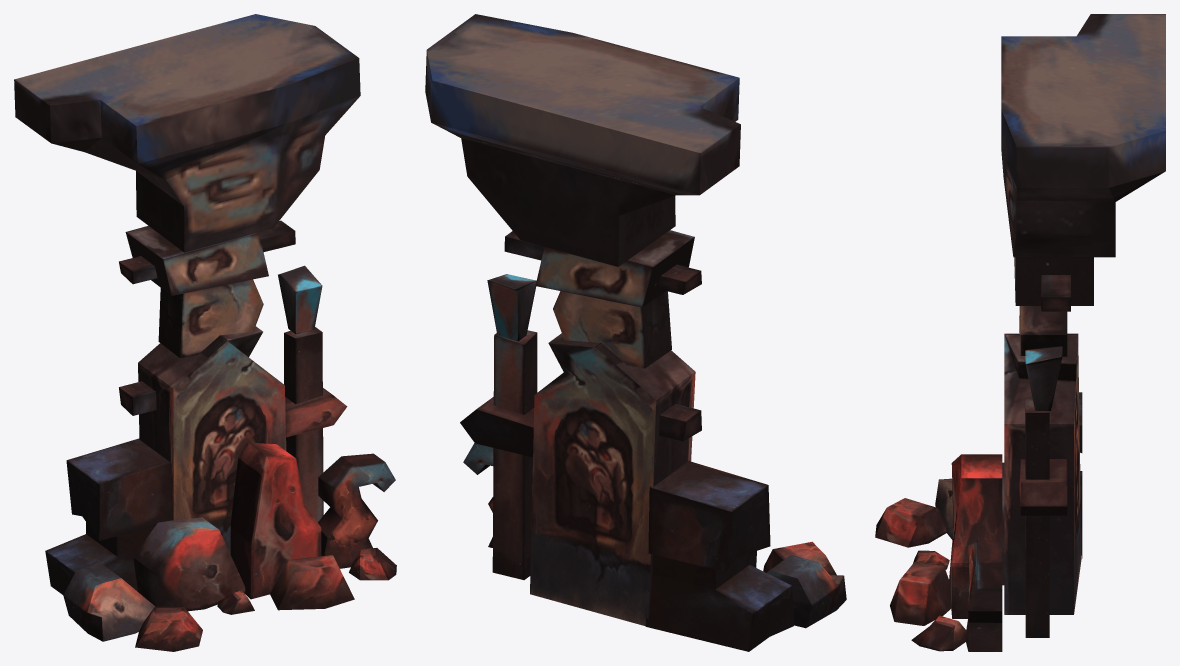
Rendered from huoguanshizhu02.FBX.
3 views of the same model, side by side, from view 1: azimuth 30°, elevation 25°; view 2: azimuth 150°, elevation 25°; view 3: azimuth 270°, elevation 25° (orthographic). The views are drawn at different scales.
Parts seen in each view (by area): view 1: huoguanshizhu2; view 2: huoguanshizhu2; view 3: huoguanshizhu2.
Boxes of the visible parts, box(x1,y1,x2,y2) form: huoguanshizhu2: box(14, 14, 396, 651); huoguanshizhu2: box(425, 14, 846, 651); huoguanshizhu2: box(875, 14, 1165, 651).
Bounding box in the file's own units: 668 × 506 × 972.
